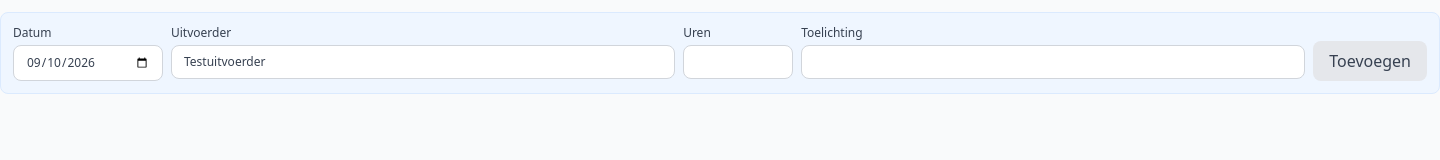
Scenario: ForecastEntryForm › herstelt de knop en kondigt een netwerkfout aan
The image size is (1440, 160).
Type "2" into the number field labelled "Uren" at (738, 62), box left=683, top=45, right=793, bottom=79
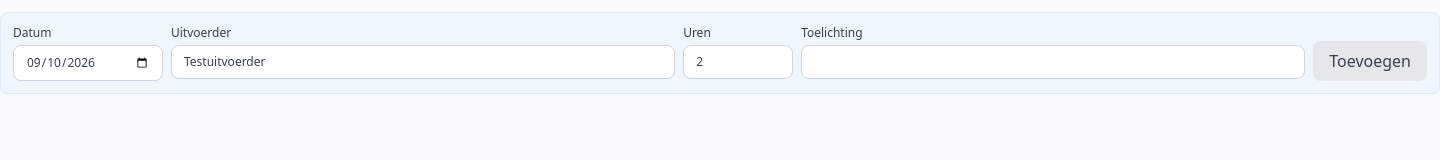
Click the button "Toevoegen" at (1370, 61), box left=1313, top=41, right=1427, bottom=81
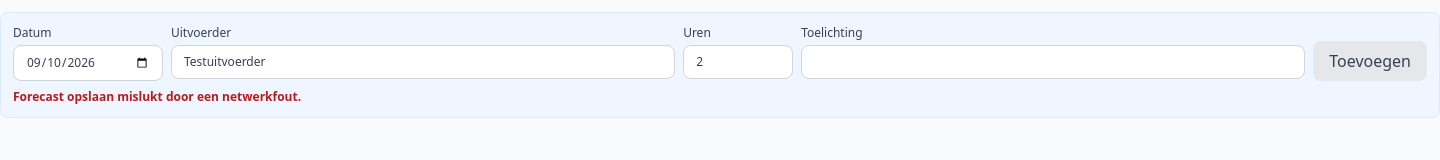
Now the message reads "Forecast opslaan mislukt door een netwerkfout.", box left=13, top=88, right=301, bottom=105
